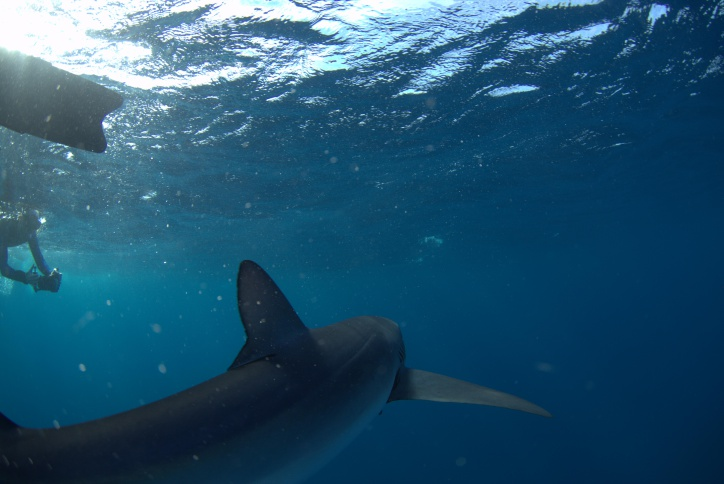Azul: (6, 253, 574, 484)
